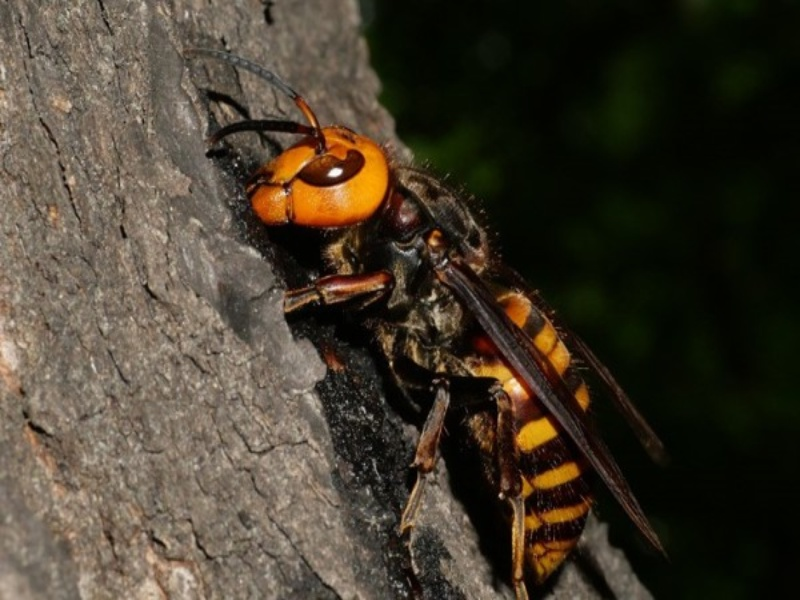asian_giant_hornet: (237, 87, 609, 598)
